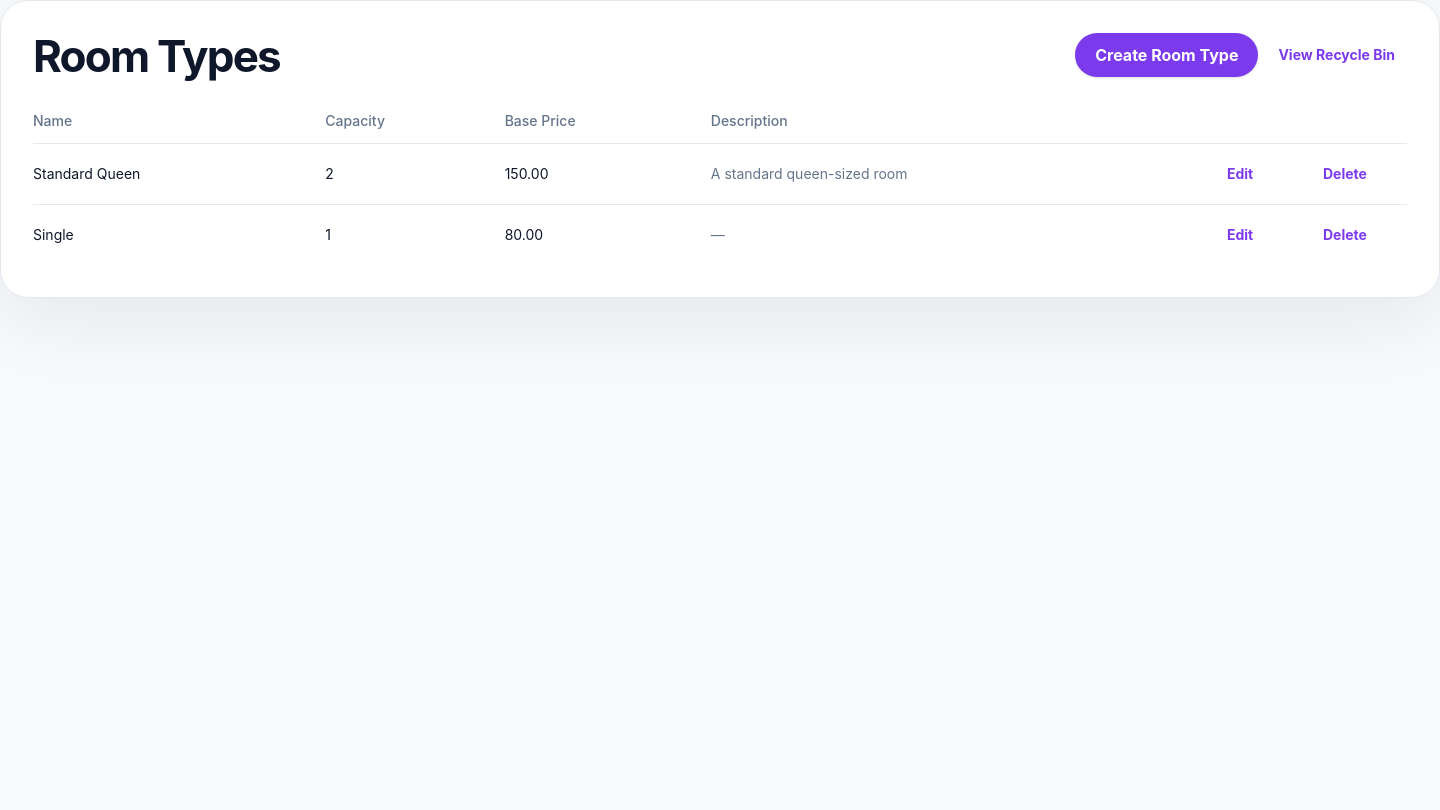
Test: RoomTypesPage › modal create flow › closes the modal when clicking the overlay
Step 1. Click the button "Create Room Type" → {"x": 1167, "y": 55}, box x1=1075 y1=33 x2=1258 y2=77
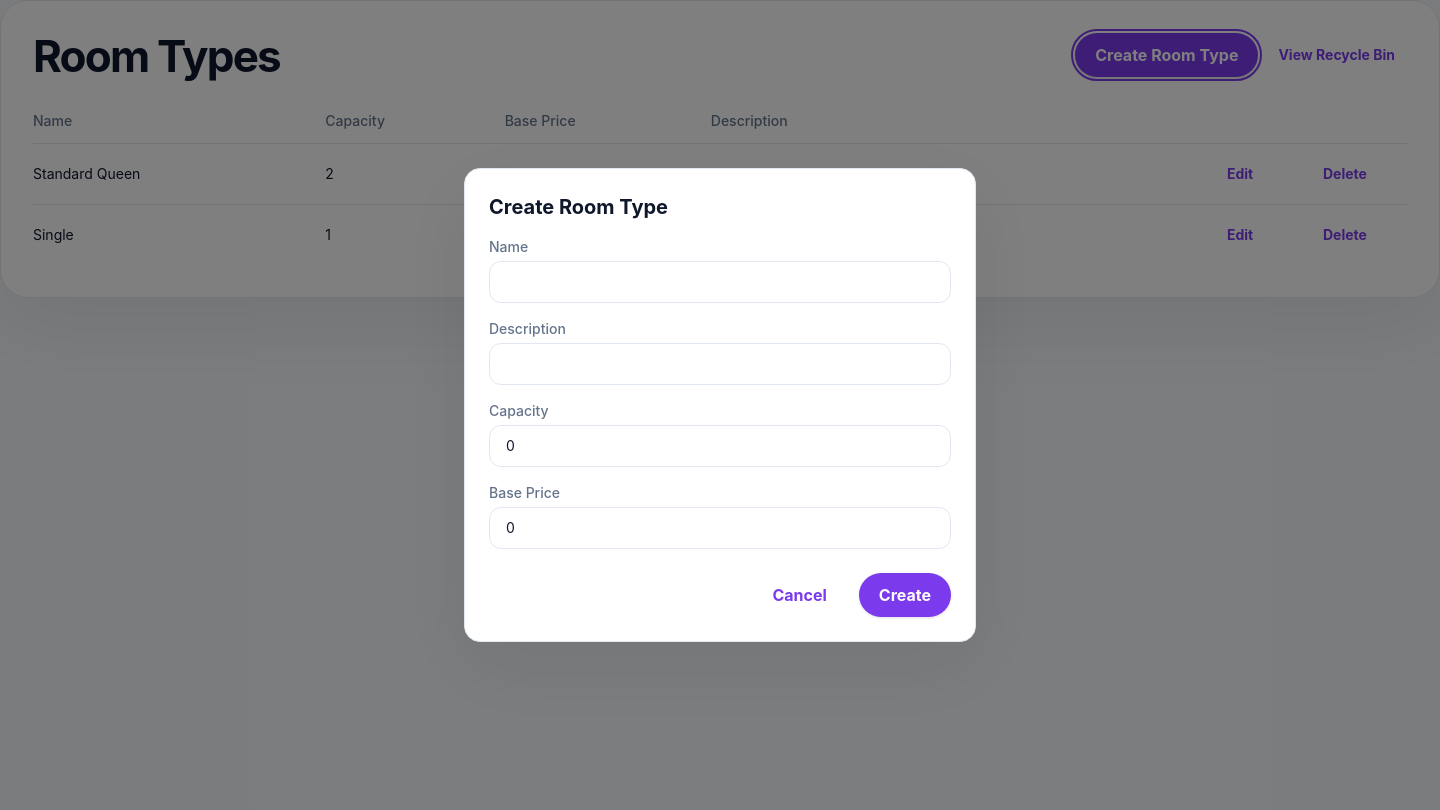
Expected: the dialog is shown, x1=464 y1=168 x2=976 y2=642
Step 2. Click the element with test id "modal-overlay" → {"x": 86, "y": 405}, box x1=0 y1=0 x2=1439 y2=809
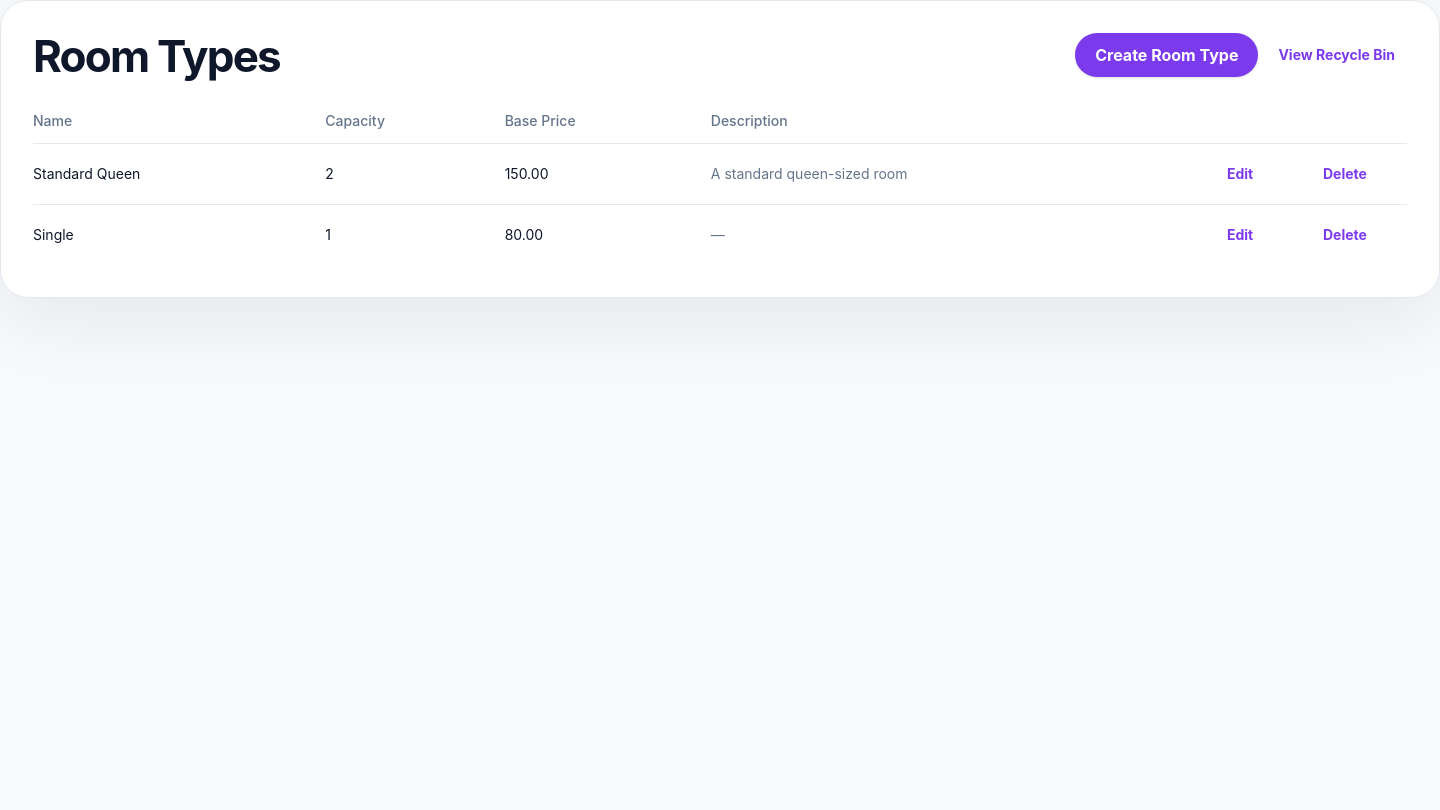
Expected: the dialog is gone
